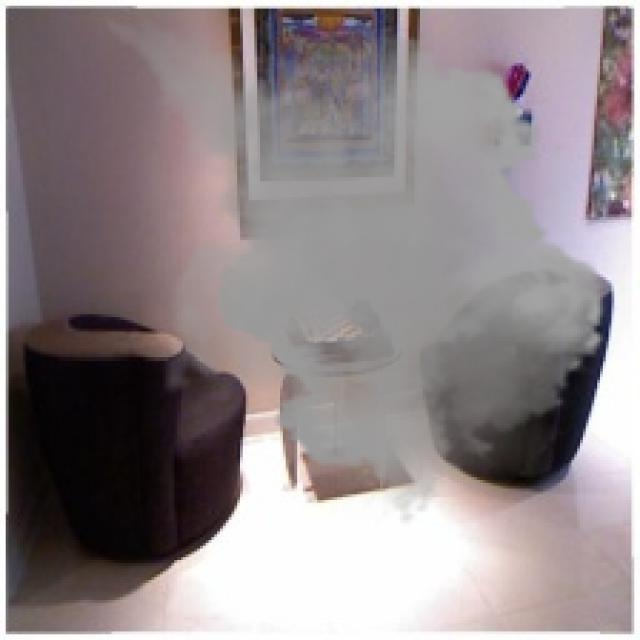smoke: (77, 6, 620, 526)
